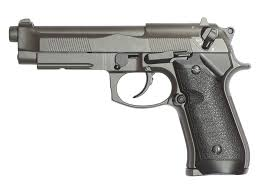gun: (8, 18, 251, 178)
